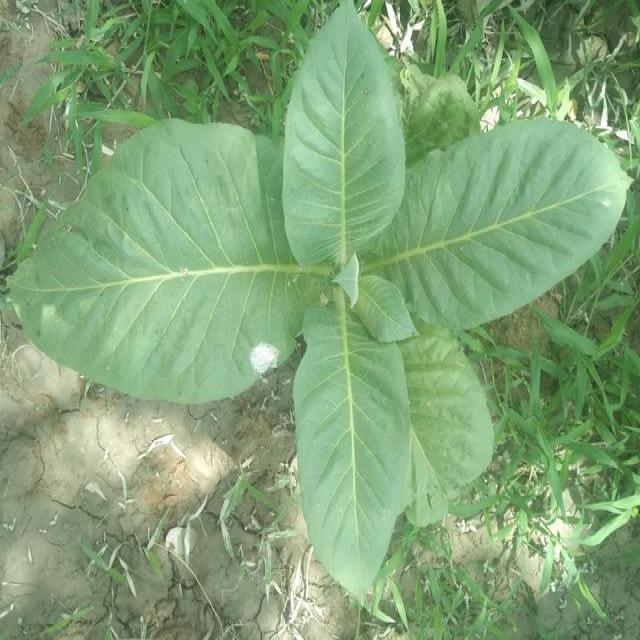crop: (38, 19, 622, 576)
